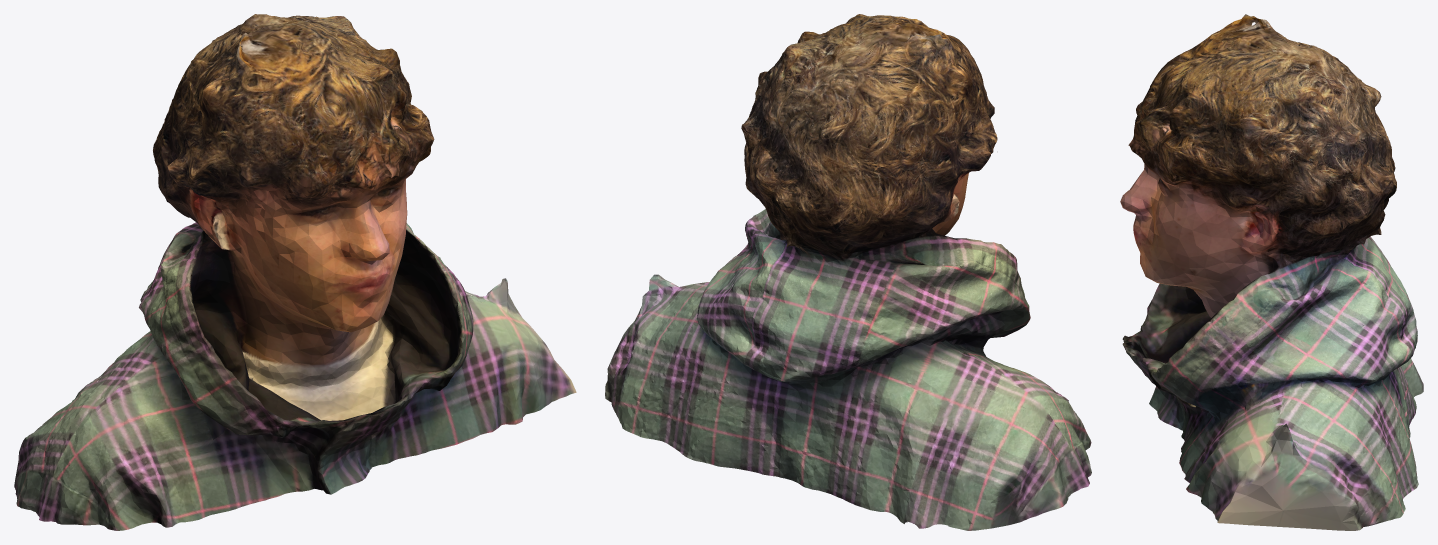
Rendered from head.glb.
3 renders of one model, left to right at view 1: azimuth 30°, elevation 25°; view 2: azimuth 150°, elevation 25°; view 3: azimuth 270°, elevation 25°, orthographic. The views are drawn at different scales.
Size of the model in its own units: 0.4919 by 0.4242 by 0.287.
Materials: 1 (1 with a texture image).
